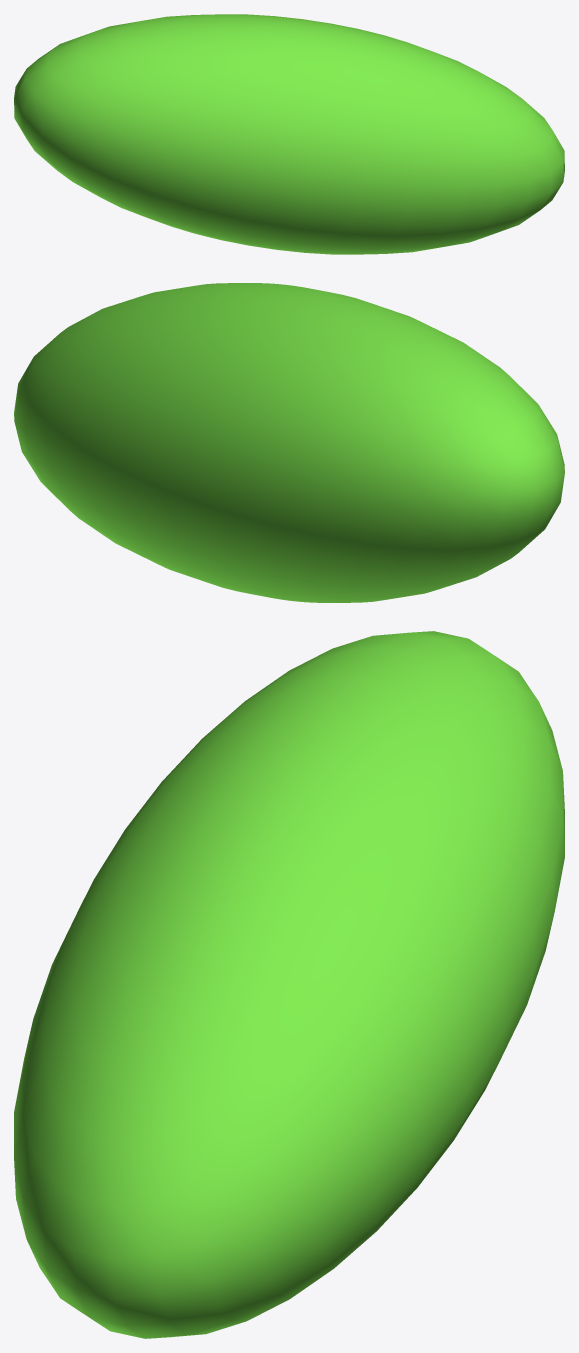
3 views of the same model, one above another, from view 1: azimuth 30°, elevation 25°; view 2: azimuth 150°, elevation 25°; view 3: azimuth 270°, elevation 25° (orthographic). The views are drawn at different scales.
Parts seen in each view (by area): view 1: 球; view 2: 球; view 3: 球.
Part boxes in pixels (left/top/right/bottom): 球: left=14, top=14, right=564, bottom=254; 球: left=14, top=283, right=564, bottom=602; 球: left=14, top=631, right=564, bottom=1338.
Bounding box in the file's own units: 470 × 224 × 261.
